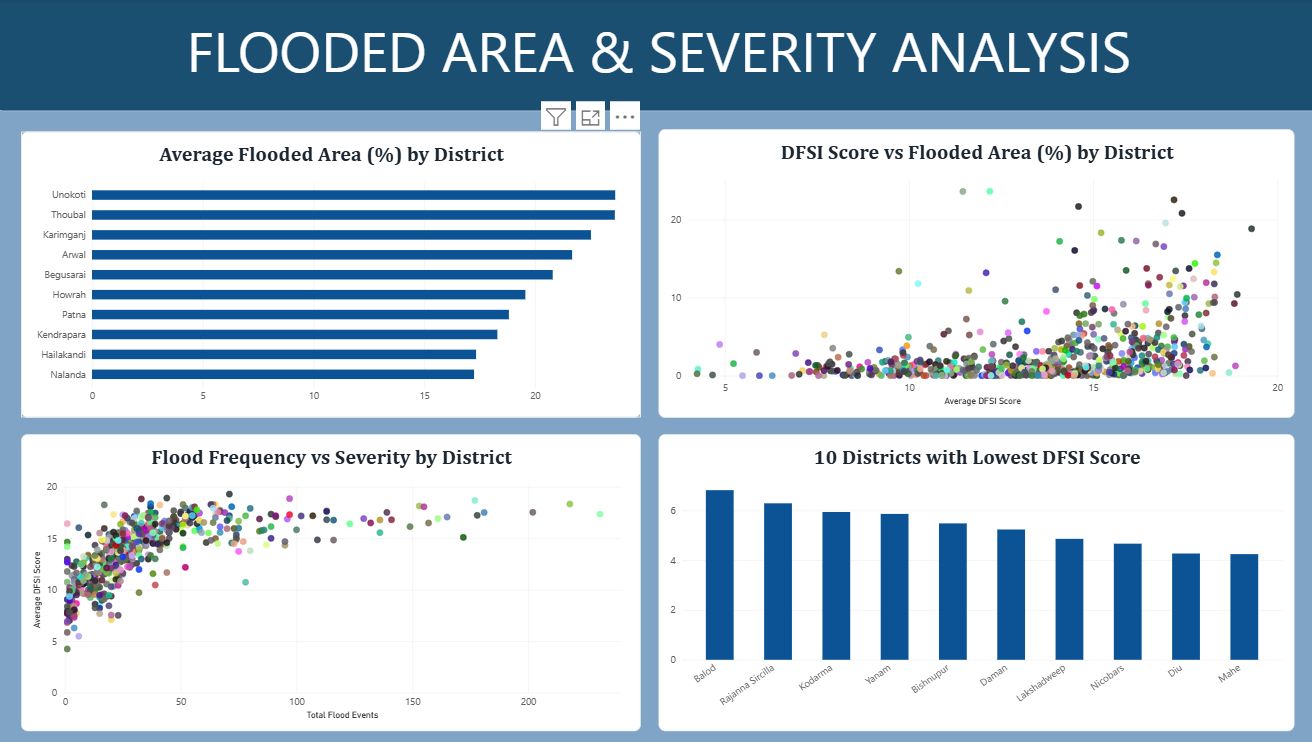

This screenshot's page, from the dashboard's own definition file:
{"tool":"powerbi","page":{"name":"Flood Analysis","canvas":[1920,1080],"ordinal":3},"visuals":[{"type":"textbox","box":[0,0,1920,162],"z":0},{"type":"clusteredBarChart","title":"Average Flooded Area (%) by District","fields":{"Category":["Dim_District.Dist_Name"],"Y":["India_Flood_Inventory_v3.Average Flooded Area Percent"]},"box":[36.2,191.8,897.6,414.4],"z":1000},{"type":"scatterChart","title":"DFSI Score vs Flooded Area (%) by District","fields":{"Y":["India_Flood_Inventory_v3.Average Flooded Area Percent"],"Series":["Dim_District.Dist_Name"],"X":["India_Flood_Inventory_v3.Average DFSI Score"]},"box":[959.1,188.2,921.1,418],"z":2000},{"type":"scatterChart","title":"Flood Frequency vs Severity by District","fields":{"X":["India_Flood_Inventory_v3.Total Flood Events"],"Y":["India_Flood_Inventory_v3.Average DFSI Score"],"Series":["Dim_District.Dist_Name"]},"box":[36.2,629.8,897.6,430.7],"z":3000},{"type":"clusteredColumnChart","title":"10 Districts with Lowest DFSI Score","fields":{"Y":["India_Flood_Inventory_v3.Average DFSI Score"],"Category":["Dim_District.Dist_Name"]},"box":[959.1,629.8,921.1,430.7],"z":4000}]}

Visuals, with their boxes in screenshot pixels (x1, y1, x2, y2), scaled from the page's 1920x1080 canvas onto the 1312x742 screenshot:
textbox: detection(0, 0, 1311, 111)
"Average Flooded Area (%) by District" clusteredBarChart: detection(25, 132, 638, 416)
"DFSI Score vs Flooded Area (%) by District" scatterChart: detection(655, 129, 1285, 416)
"Flood Frequency vs Severity by District" scatterChart: detection(25, 433, 638, 729)
"10 Districts with Lowest DFSI Score" clusteredColumnChart: detection(655, 433, 1285, 729)
